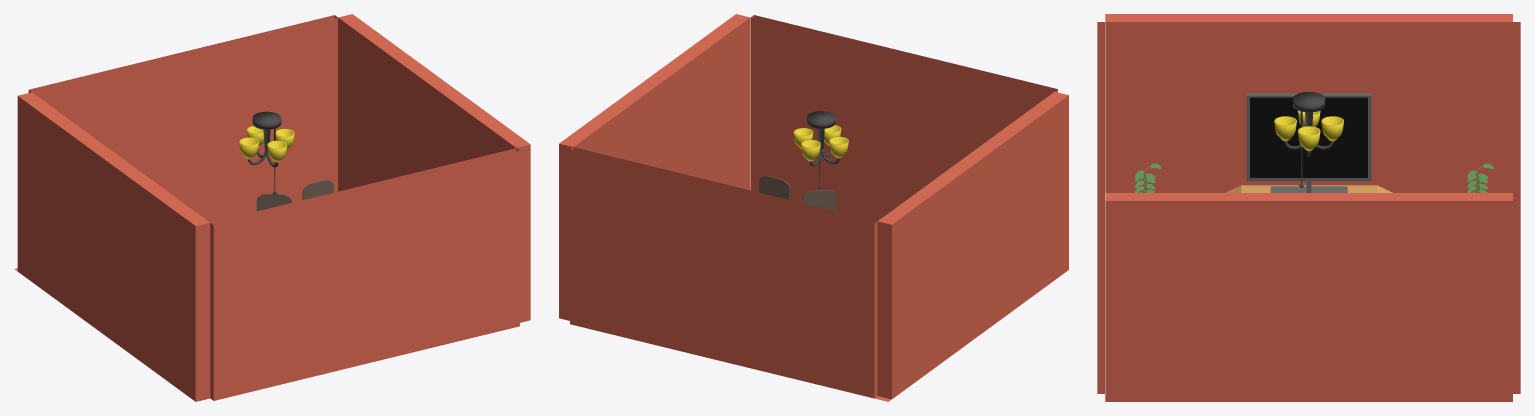
The model's file is simple room 1.fbx.
3 views of the same model, side by side, from view 1: azimuth 30°, elevation 25°; view 2: azimuth 150°, elevation 25°; view 3: azimuth 270°, elevation 25° (orthographic). The views are drawn at different scales.
Parts seen in each view (by area): view 1: Plane.059, Plane.055, Plane.058, Plane.057, Plane.001, Plane.046, Plane.047; view 2: Plane.058, Plane.055, Plane.059, Plane.057, Plane.001, Plane.044, Plane.045; view 3: Plane.057, Plane.055, Plane.042, Plane.058, Plane.059, Plane.001, Plane.043, Plane.005, Plane.009, Plane.003.
Part boxes in pixels (x1=…): Plane.059: x1=210, y1=148, x2=519, y2=400; Plane.055: x1=17, y1=92, x2=210, y2=401; Plane.058: x1=28, y1=15, x2=337, y2=222; Plane.057: x1=338, y1=14, x2=530, y2=322; Plane.001: x1=252, y1=111, x2=281, y2=194; Plane.046: x1=256, y1=193, x2=291, y2=211; Plane.047: x1=302, y1=180, x2=333, y2=199; Plane.058: x1=570, y1=147, x2=877, y2=398; Plane.055: x1=877, y1=92, x2=1068, y2=399; Plane.059: x1=750, y1=15, x2=1057, y2=221; Plane.057: x1=559, y1=14, x2=750, y2=320; Plane.001: x1=807, y1=111, x2=835, y2=188; Plane.044: x1=802, y1=190, x2=836, y2=211; Plane.045: x1=759, y1=175, x2=789, y2=199; Plane.057: x1=1105, y1=193, x2=1512, y2=401; Plane.055: x1=1105, y1=14, x2=1512, y2=192; Plane.042: x1=1246, y1=93, x2=1371, y2=192; Plane.058: x1=1513, y1=22, x2=1520, y2=393; Plane.059: x1=1097, y1=22, x2=1104, y2=393; Plane.001: x1=1293, y1=92, x2=1325, y2=187; Plane.043: x1=1225, y1=185, x2=1392, y2=192; Plane.005: x1=1274, y1=116, x2=1296, y2=141; Plane.009: x1=1321, y1=116, x2=1343, y2=141; Plane.003: x1=1297, y1=126, x2=1320, y2=151.
Bounding box in the file's own units: 1410 × 733 × 1349.
